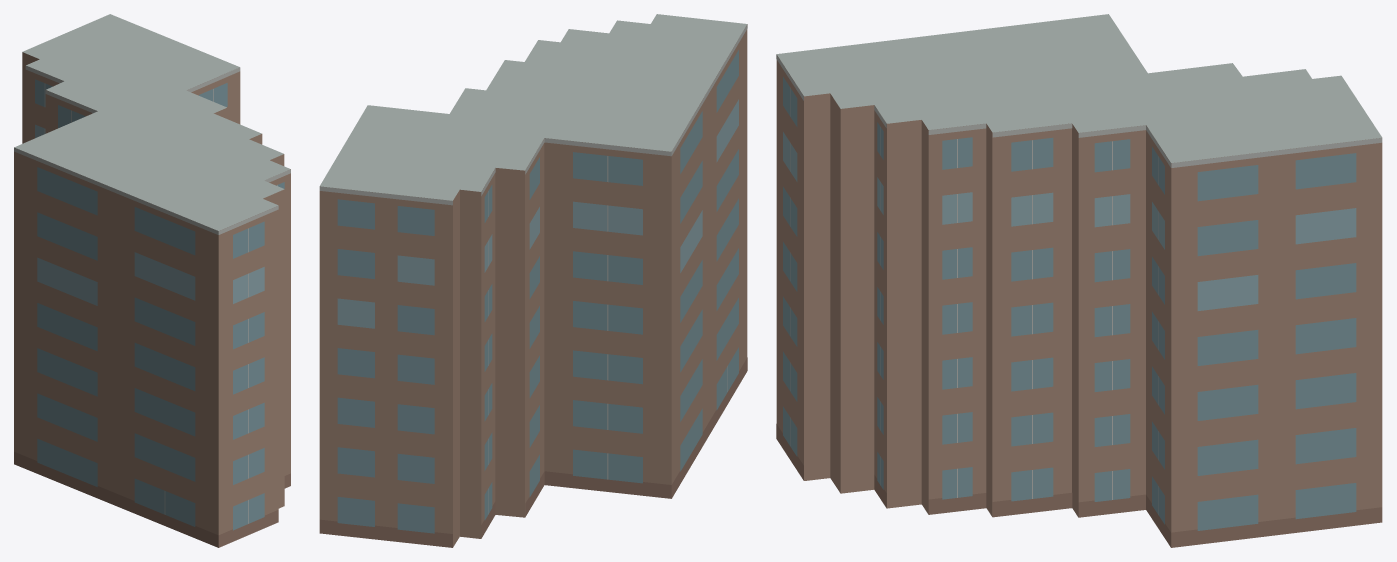
The model's file is survey-upis-33022875.glb.
3 views of the same model, side by side, from view 1: azimuth 30°, elevation 25°; view 2: azimuth 150°, elevation 25°; view 3: azimuth 270°, elevation 25° (orthographic). The views are drawn at different scales.
Parts seen in each view (by area): view 1: survey-upis-33022875.tmp; view 2: survey-upis-33022875.tmp; view 3: survey-upis-33022875.tmp.
Boxes of the visible parts, left/top/right/bottom form: survey-upis-33022875.tmp: left=14, top=14, right=290, bottom=547; survey-upis-33022875.tmp: left=319, top=14, right=747, bottom=547; survey-upis-33022875.tmp: left=776, top=14, right=1382, bottom=547.
Size of the model in its own units: 15.64 by 18.8 by 26.84.
